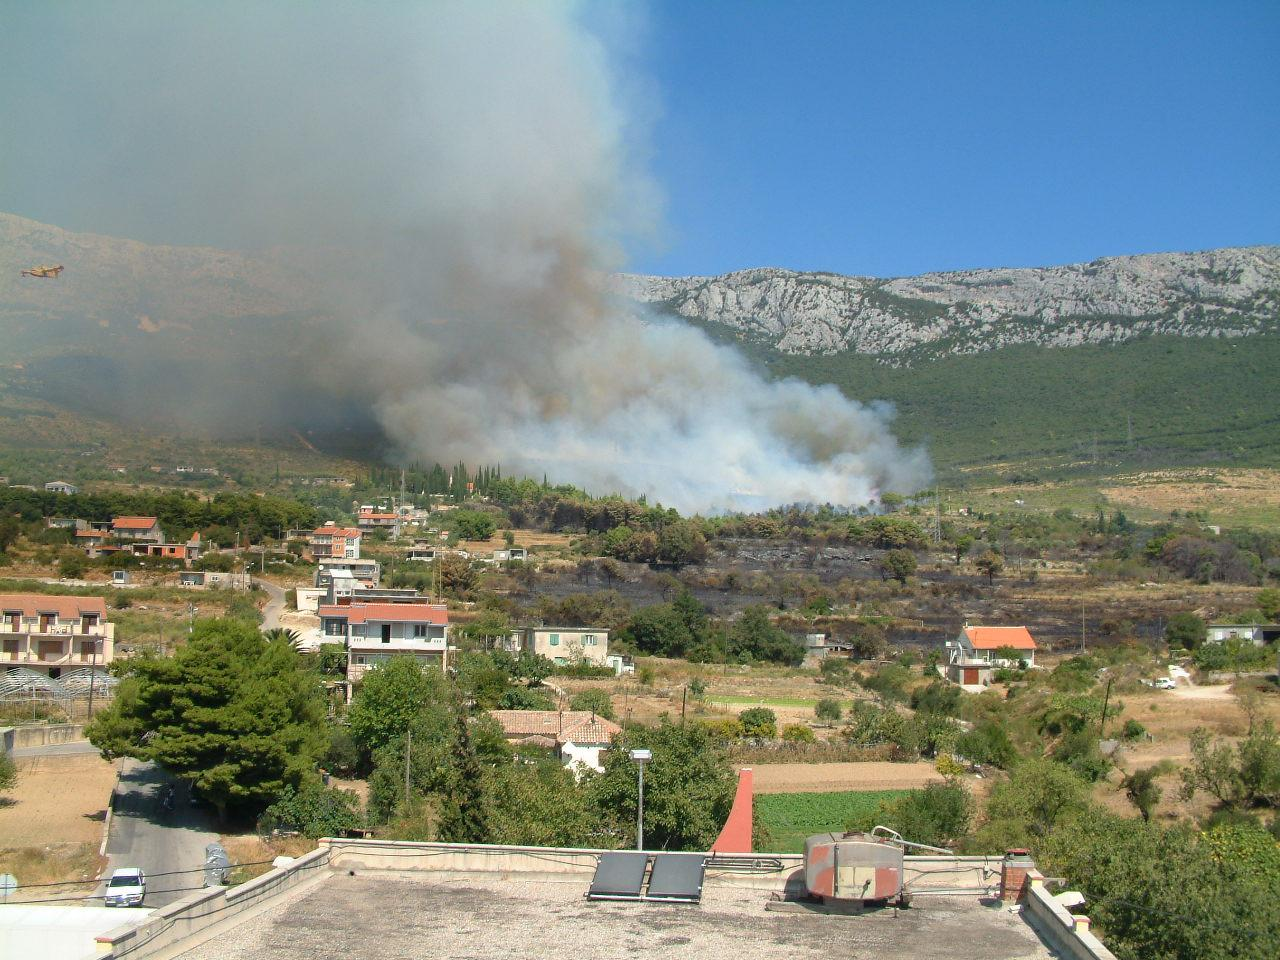Smoke: (3, 3, 940, 516)
